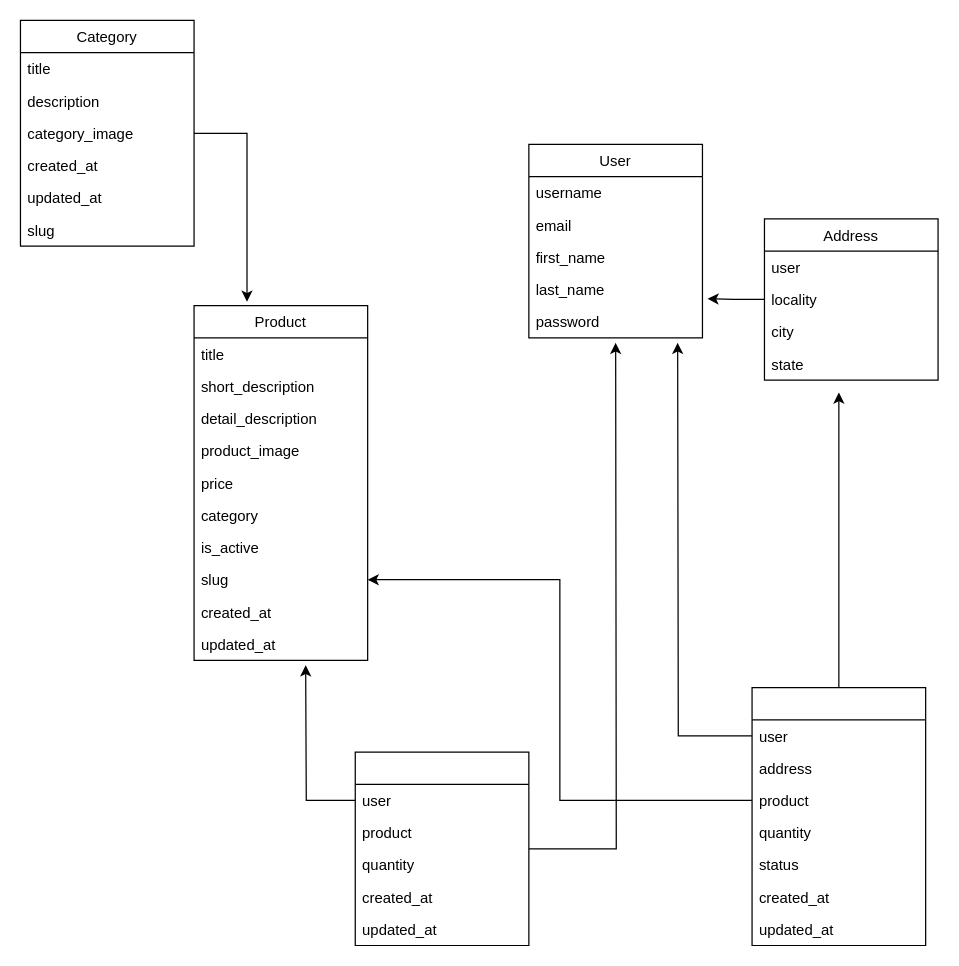
Some shapes in this 959 by 966 pixel diagram are drawn without their labels. Here are the shapes that lost their labels. From the top down, the box of each, then its label:
(751, 686, 926, 946): Order
(354, 751, 529, 946): Cart
